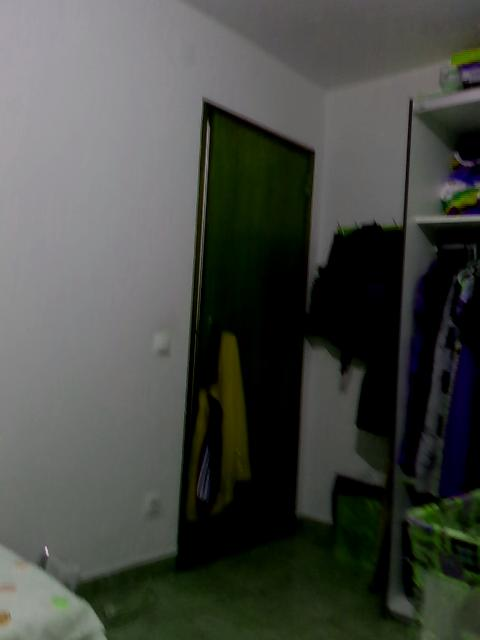closed_door: (175, 96, 312, 578)
